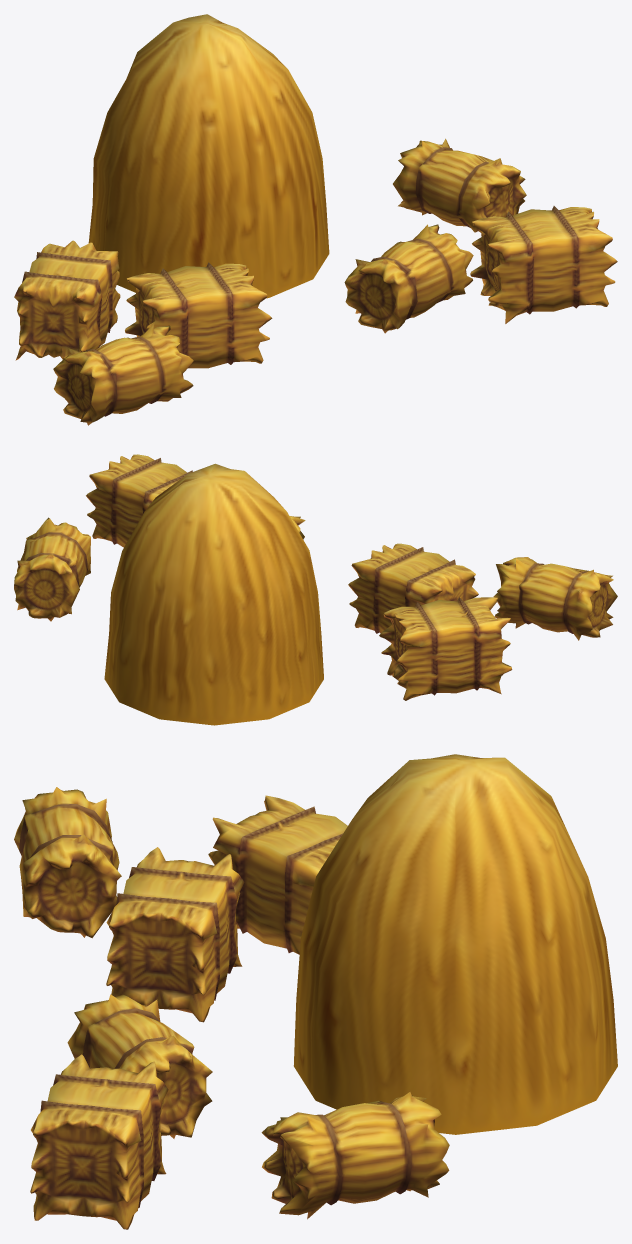
File: botte-foin.glb
3 renders of one model, top to bottom at view 1: azimuth 30°, elevation 25°; view 2: azimuth 150°, elevation 25°; view 3: azimuth 270°, elevation 25°, orthographic. The views are drawn at different scales.
Visible parts, largest first — view 1: HayCock_Straw_Straw_SG_0; view 2: HayCock_Straw_Straw_SG_0; view 3: HayCock_Straw_Straw_SG_0.
Part boxes in pixels (x1=…): HayCock_Straw_Straw_SG_0: x1=14, y1=14, x2=617, y2=425; HayCock_Straw_Straw_SG_0: x1=14, y1=454, x2=617, y2=725; HayCock_Straw_Straw_SG_0: x1=14, y1=754, x2=617, y2=1229.
Bounding box in the file's own units: 2.52 × 0.9943 × 1.78.
1 material, 1 textured.
